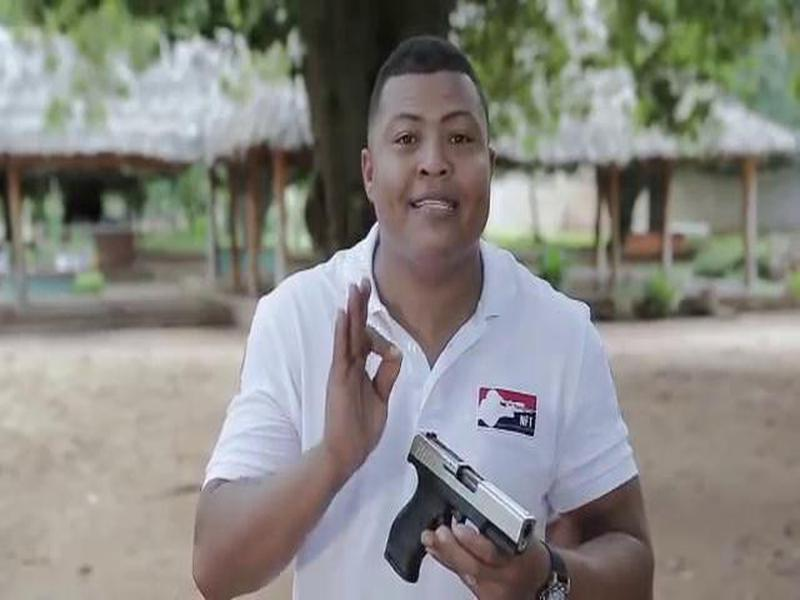Pistola: (371, 427, 548, 587)
